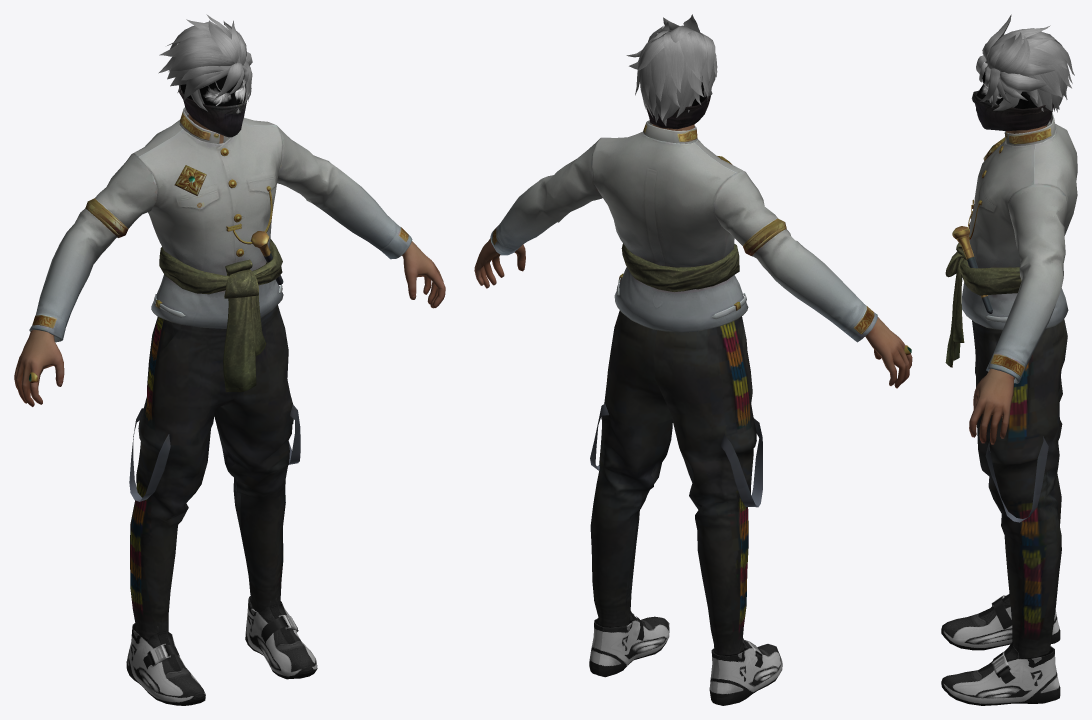
File: miaou.glb
3 renders of one model, left to right at view 1: azimuth 30°, elevation 25°; view 2: azimuth 150°, elevation 25°; view 3: azimuth 270°, elevation 25°, orthographic.
Visible parts, largest first — view 1: miaou; view 2: miaou; view 3: miaou.
Part boxes in pixels (x1=…): miaou: x1=14, y1=14, x2=445, y2=705; miaou: x1=474, y1=14, x2=912, y2=705; miaou: x1=941, y1=14, x2=1077, y2=705.
Size of the model in its own units: 0.6321 by 0.9392 by 0.1781.
8 materials, 8 textured.
